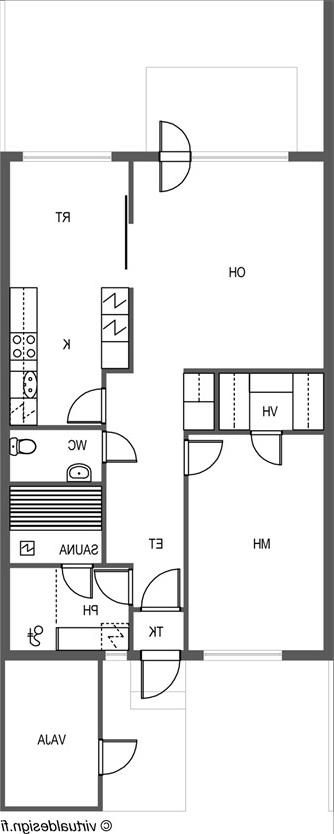bathroom: (9, 424, 103, 484)
door: (137, 646, 182, 702), (138, 567, 184, 616), (180, 436, 225, 479), (65, 387, 109, 429), (249, 424, 288, 471), (95, 738, 140, 778), (90, 568, 136, 607), (97, 428, 141, 467), (157, 153, 194, 195), (59, 560, 95, 602), (157, 117, 194, 157)
perimeter: (0, 148, 334, 812)
window: (12, 147, 118, 169), (186, 148, 300, 165), (191, 647, 290, 665), (99, 647, 132, 661)
